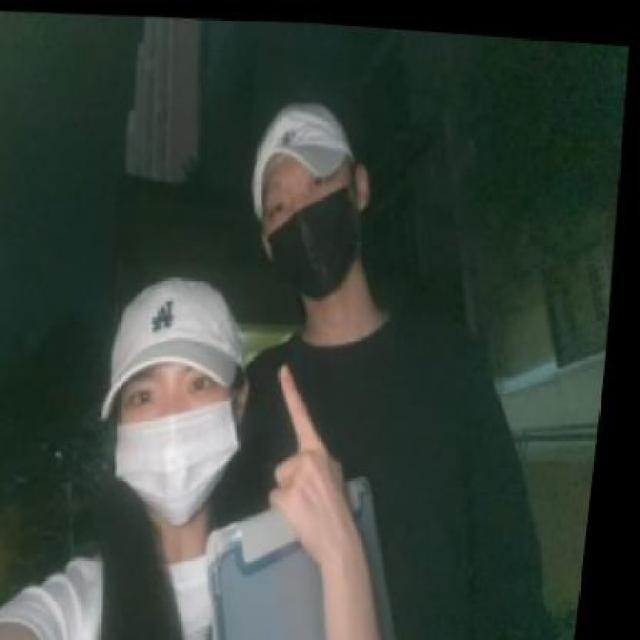hat: (101, 264, 262, 430), (247, 87, 362, 227)
